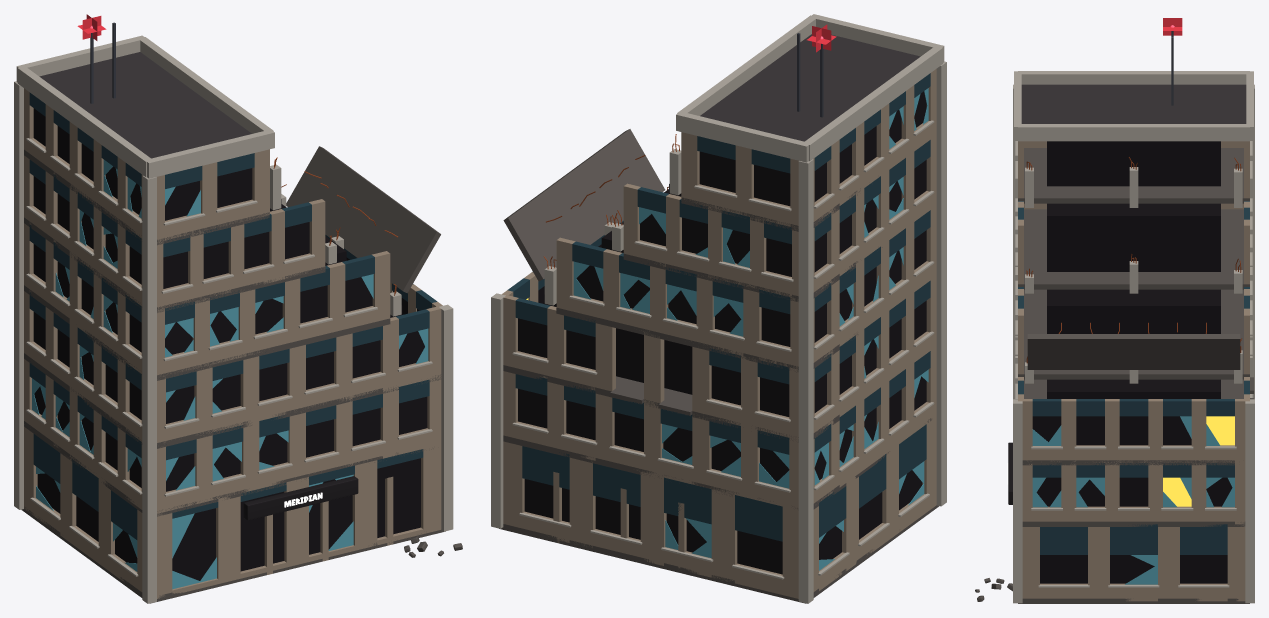
Rendered from city_building_shell_c.glb.
3 views of the same model, side by side, from view 1: azimuth 30°, elevation 25°; view 2: azimuth 150°, elevation 25°; view 3: azimuth 270°, elevation 25° (orthographic). The views are drawn at different scales.
Visible parts, largest first — view 1: ShellC; view 2: ShellC; view 3: ShellC.
Part boxes in pixels (<box>): ShellC: <box>14,14,462,603</box>; ShellC: <box>491,14,946,603</box>; ShellC: <box>975,18,1254,603</box>.
Bounding box in the file's own units: 16.5 × 26.79 × 14.46.
